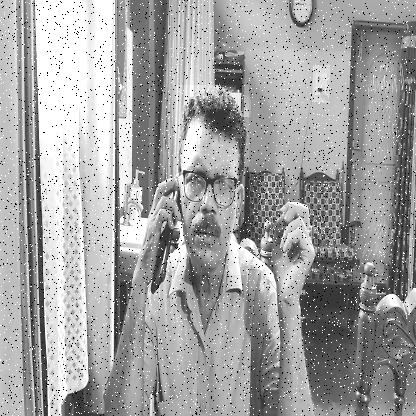Normal: (175, 85, 249, 275)
